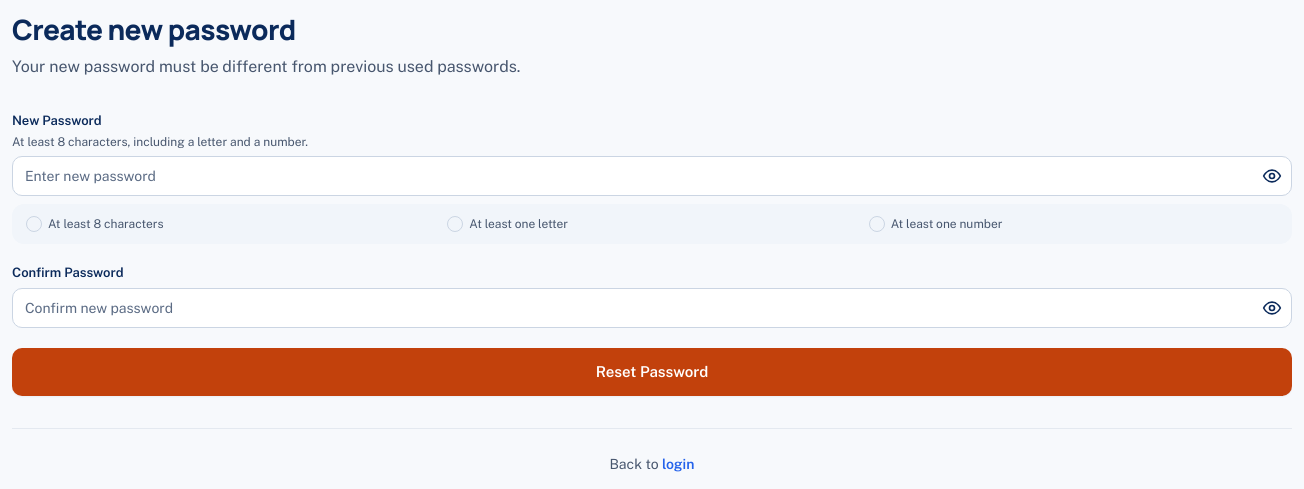
Scenario: ResetPasswordPage › shows a translated error for an expired reset link and does not enter the success state
Step 1. Type "Password123" into the password field labelled "New Password" → coordinates (652, 176), box [12, 156, 1292, 196]
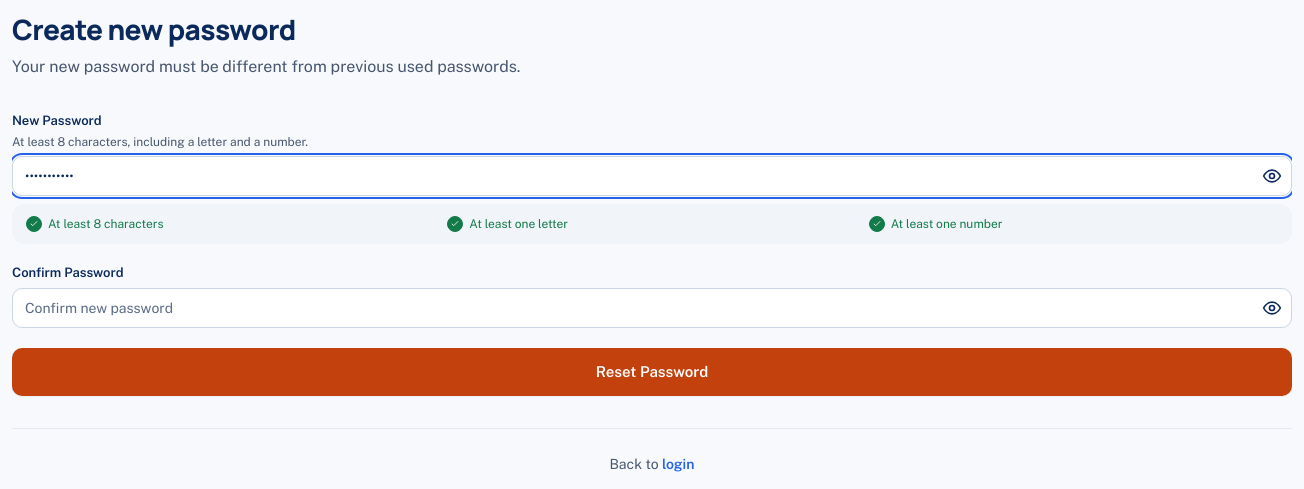
Step 2. Type "Password123" into the password field labelled "Confirm Password" → coordinates (652, 308), box [12, 288, 1292, 328]
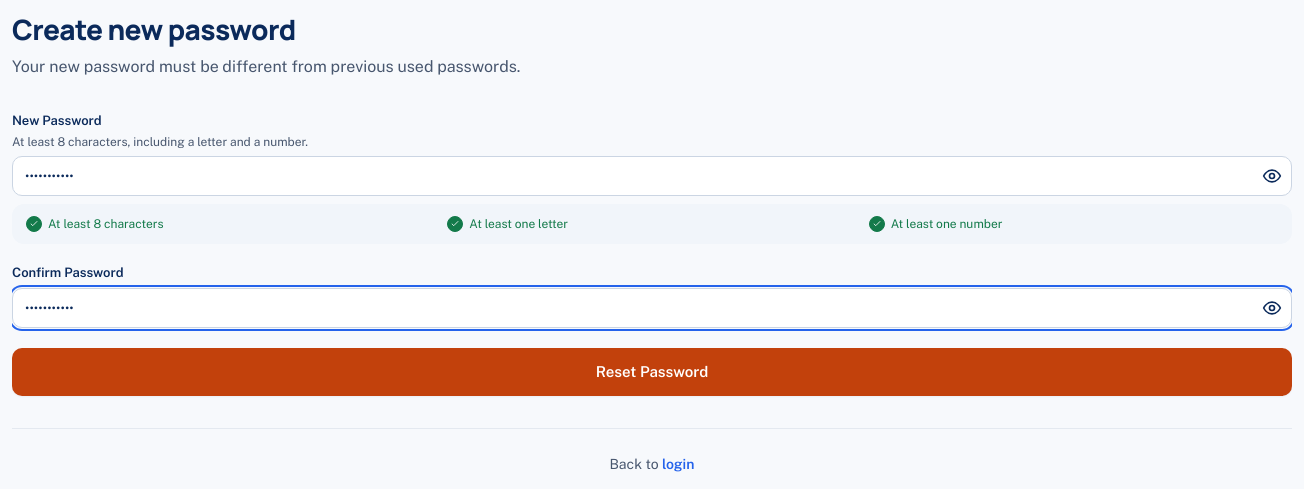
Step 3. Click the button "Reset Password" → coordinates (652, 372), box [12, 348, 1292, 396]
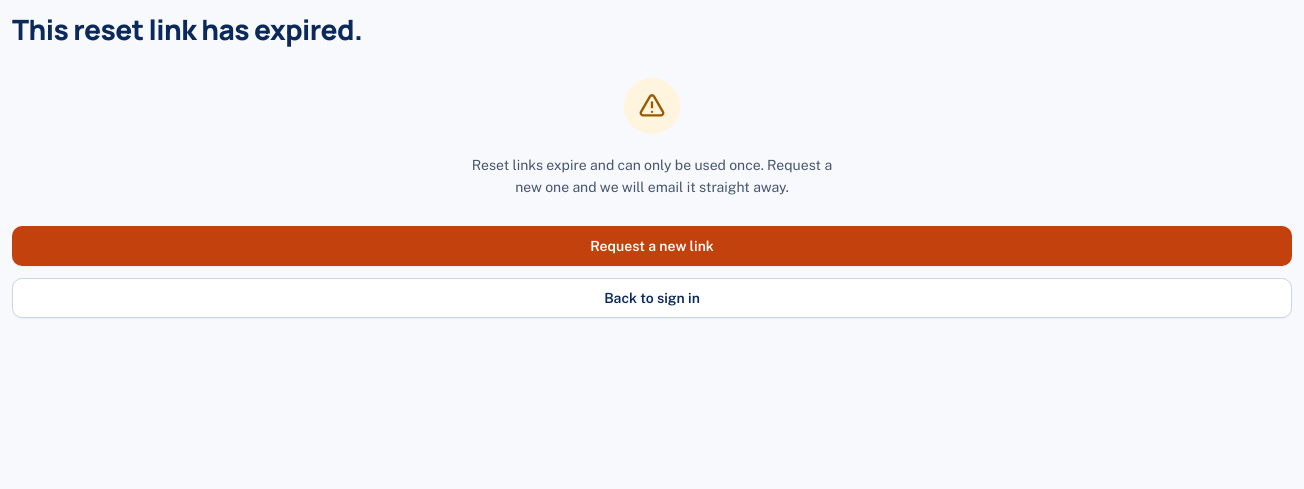
Check: the link "Request a new link" is shown, box [12, 226, 1292, 266]
Check: the text labelled "New Password" is gone
